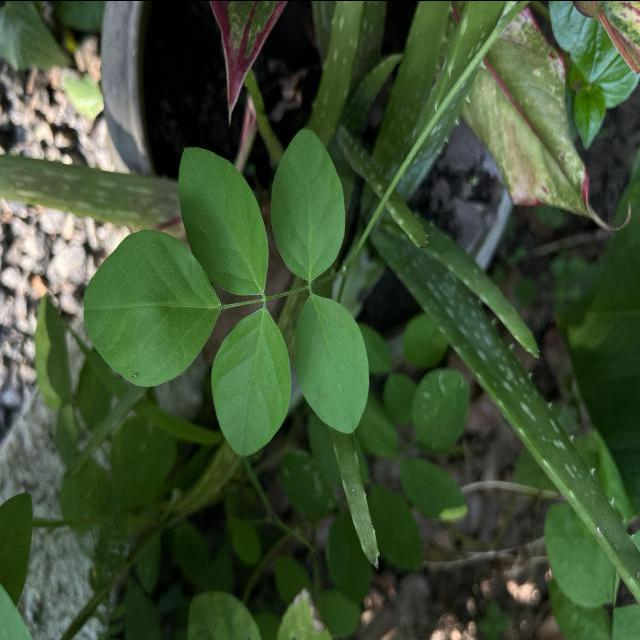Clitoria ternatea: (82, 226, 223, 388), (176, 144, 270, 296), (210, 306, 292, 456), (270, 126, 347, 282), (292, 294, 370, 434)
